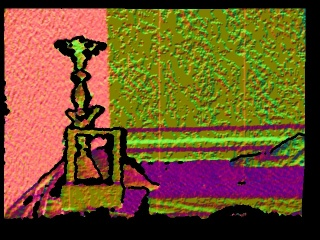station: (59, 126, 124, 210)
